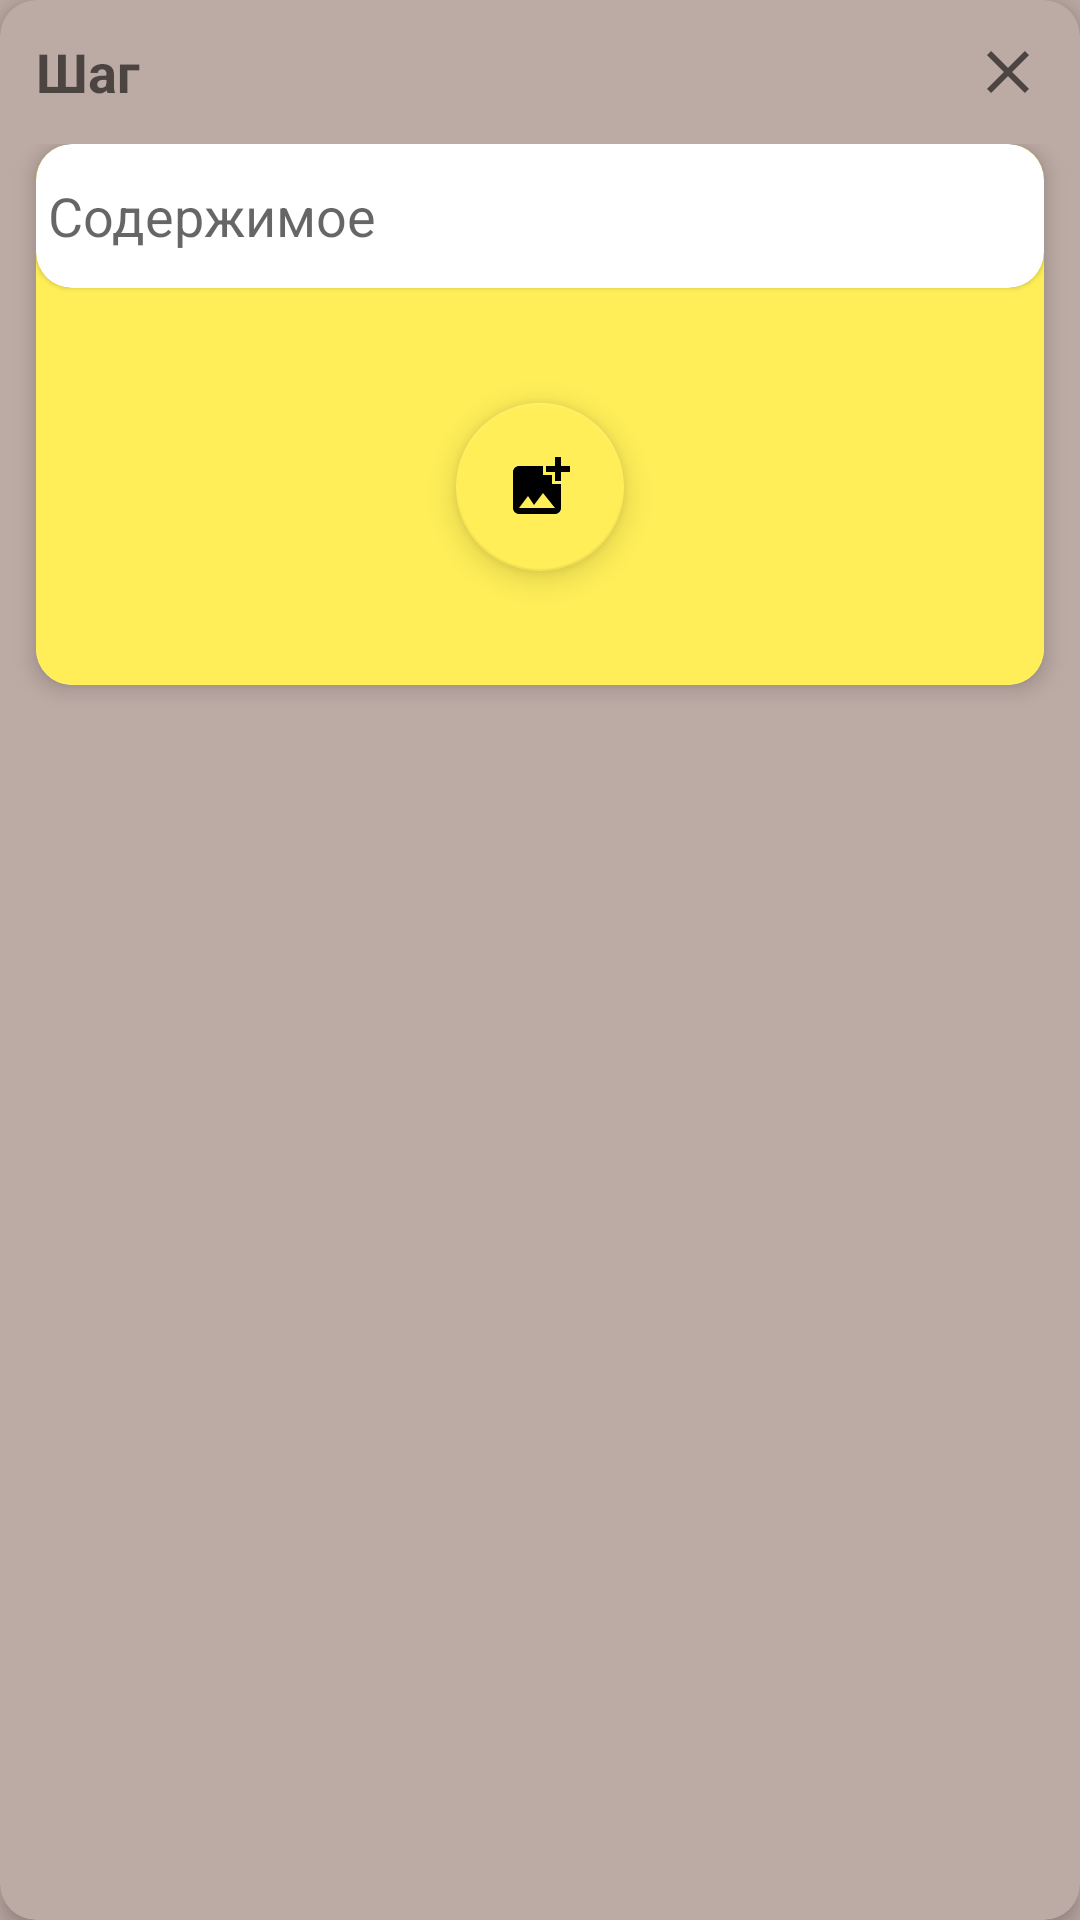

Screen size 1080px x 1920px. Icon name, then its box in pixels as (x1, y1, x2, y2):
add photo alternate: (461, 403, 619, 571)
